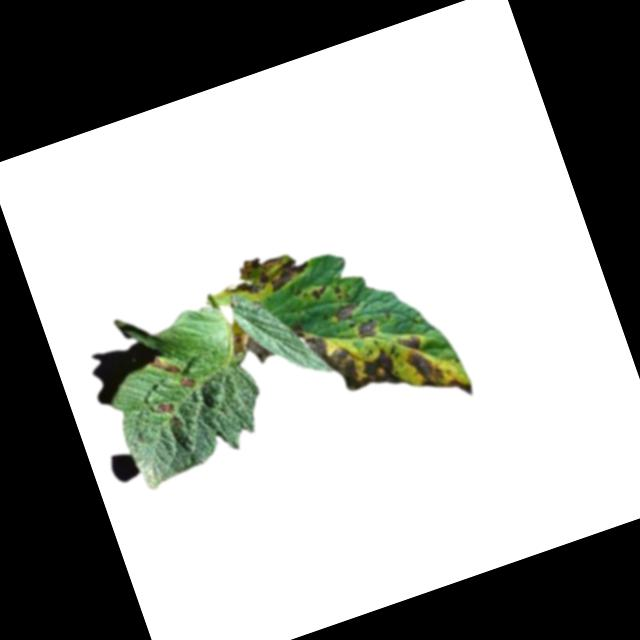Early_blight: (296, 283, 475, 444), (232, 241, 315, 304), (228, 323, 277, 374), (149, 353, 180, 382), (332, 297, 363, 325), (352, 315, 380, 341), (309, 281, 333, 305), (175, 373, 199, 394), (154, 400, 176, 420)
